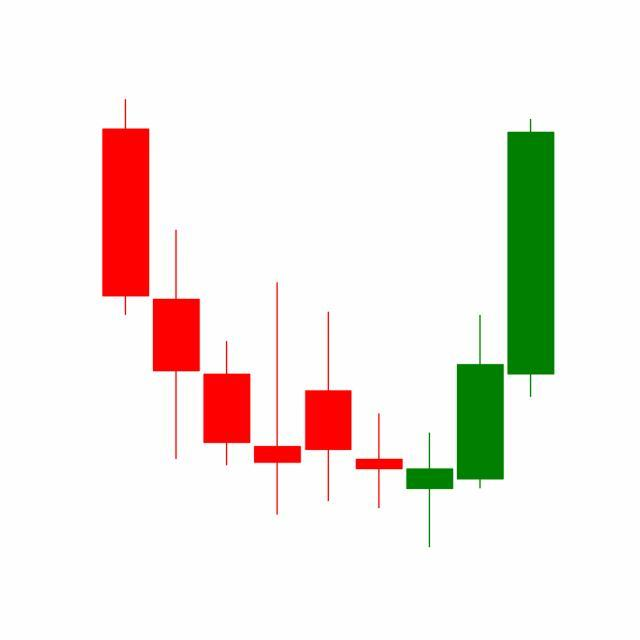Hikkake Pattern: (302, 115, 555, 549)
